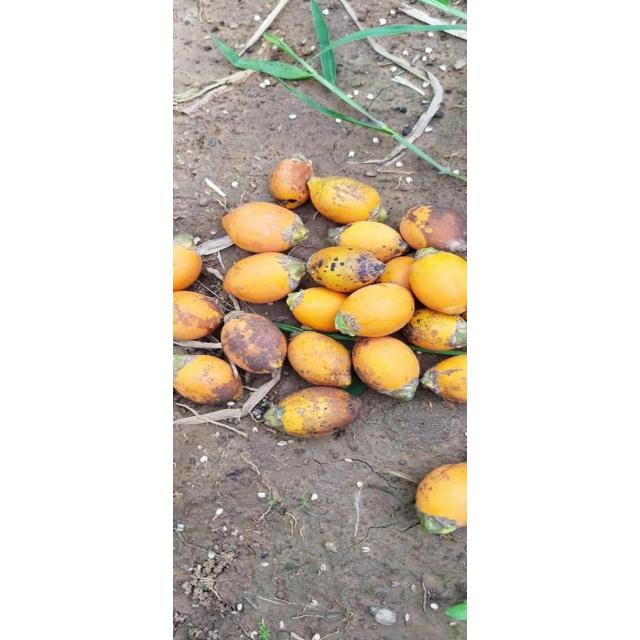good: (263, 386, 363, 436), (350, 336, 420, 399), (221, 203, 309, 253), (222, 252, 306, 304), (220, 312, 288, 374), (336, 284, 414, 338), (408, 248, 467, 314), (414, 462, 466, 534), (286, 331, 352, 387), (306, 176, 382, 224), (174, 352, 242, 403), (326, 221, 408, 263), (399, 203, 467, 253), (401, 308, 467, 352), (288, 286, 349, 332), (173, 291, 224, 341), (419, 352, 466, 406), (268, 158, 314, 208), (174, 244, 202, 294), (378, 256, 416, 290), (173, 233, 197, 250), (224, 310, 248, 324)
